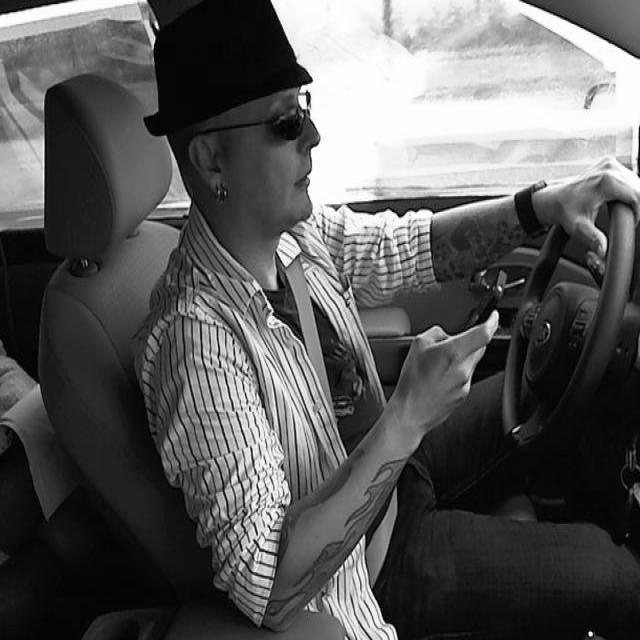phone: (405, 262, 504, 400)
wheel: (136, 0, 328, 242), (505, 160, 640, 452)
